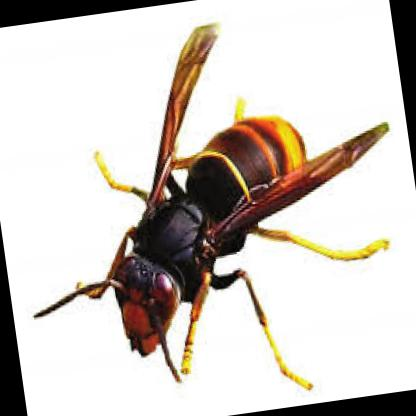asian: (10, 8, 415, 415)
